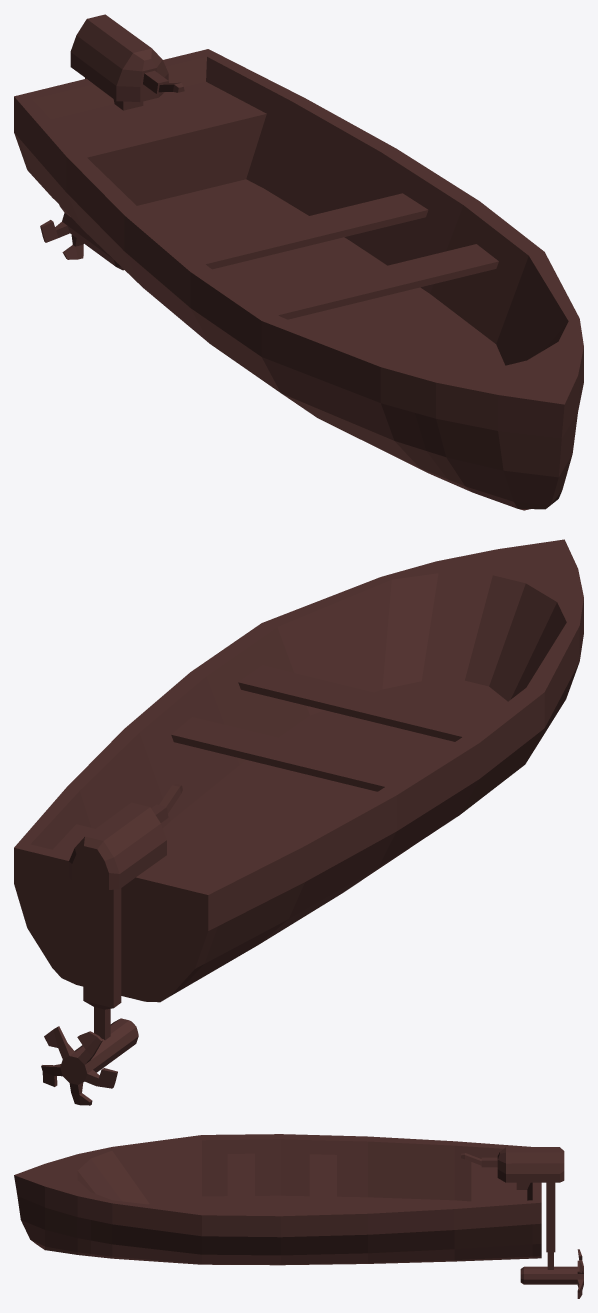
File: Boat.fbx
The picture shows the model from 3 angles, top to bottom: view 1: azimuth 30°, elevation 25°; view 2: azimuth 150°, elevation 25°; view 3: azimuth 270°, elevation 25°; orthographic projection. The views are drawn at different scales.
Visible parts, largest first — view 1: Wood_BoatV2.001; view 2: Wood_BoatV2.001; view 3: Wood_BoatV2.001.
Boxes of the visible parts, <box> form: Wood_BoatV2.001: <box>14,14,583,510</box>; Wood_BoatV2.001: <box>14,539,583,1105</box>; Wood_BoatV2.001: <box>14,1134,583,1298</box>.
Bounding box in the file's own units: 5.48 × 4.58 × 16.06.
